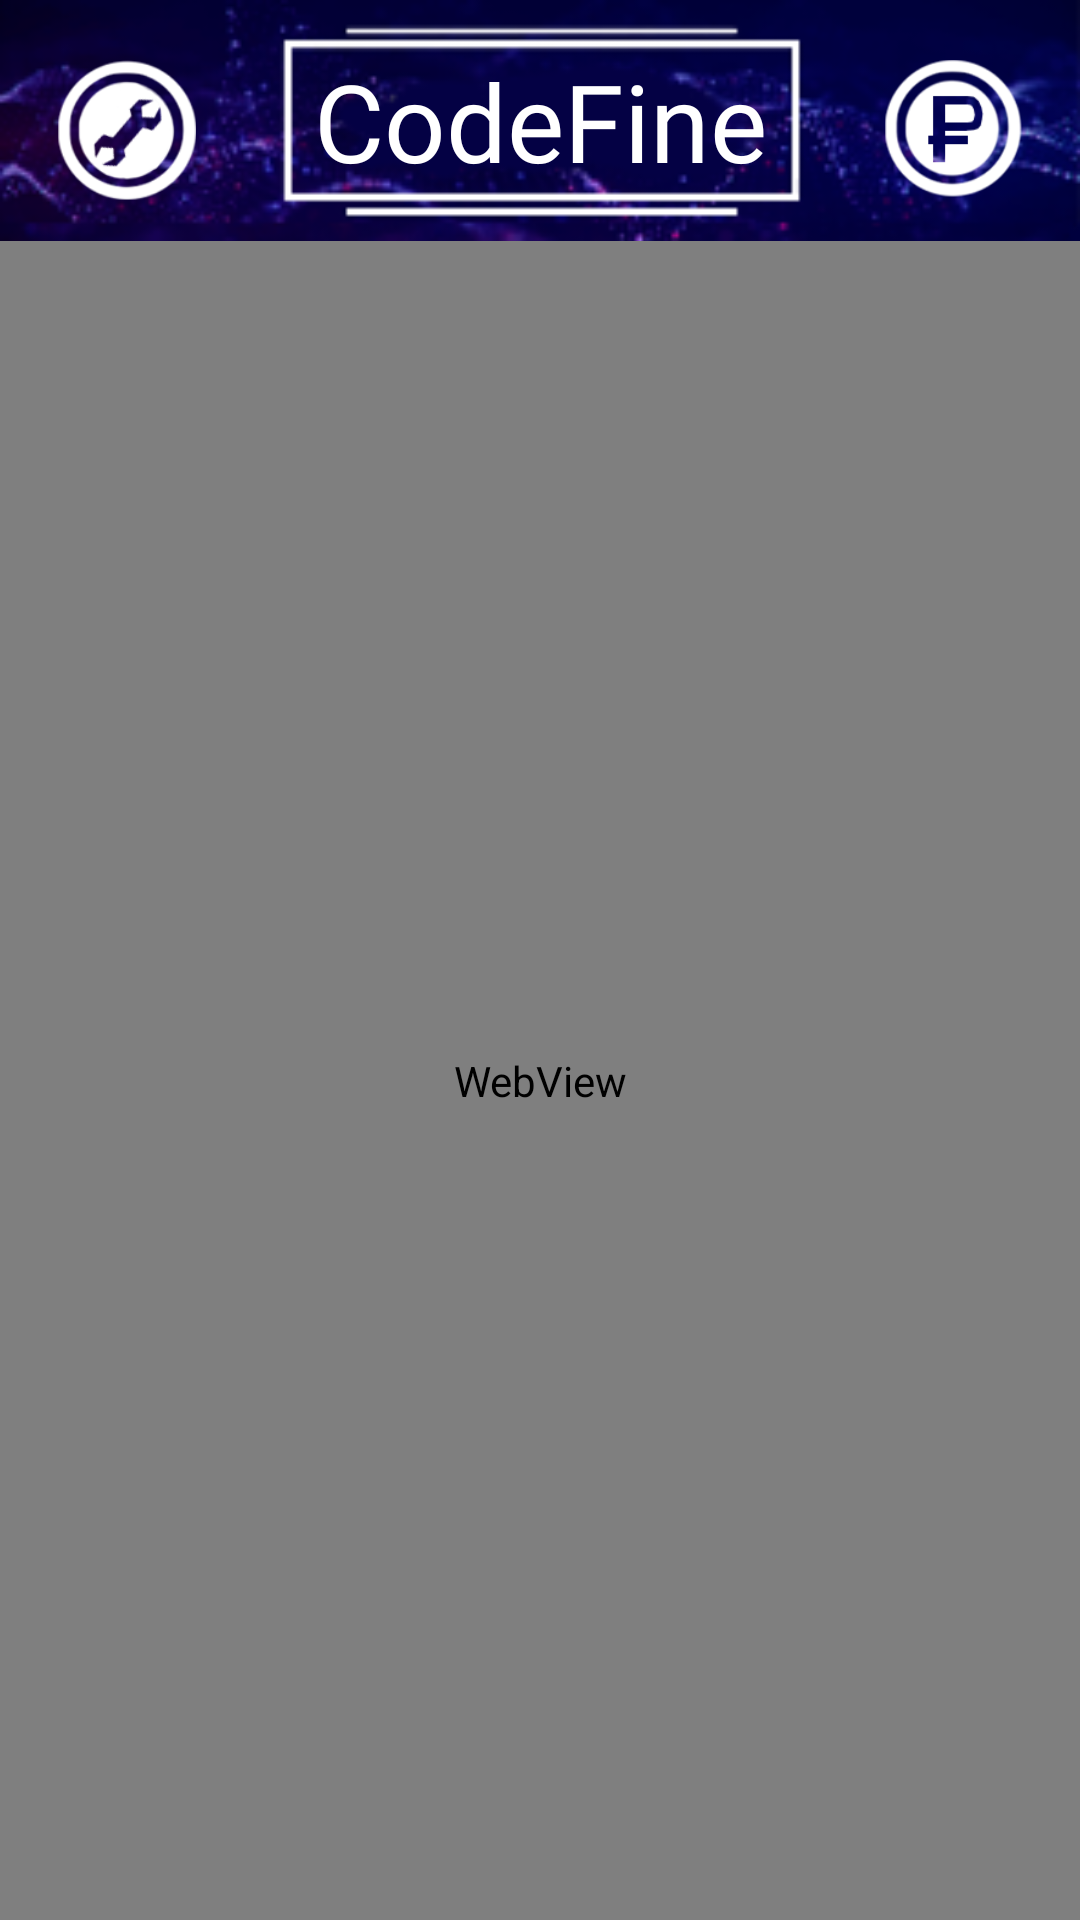

Where to tap for icons on this 1080×1920 app screen, as point (x, y):
donates: point (953, 139)
settings: point (127, 150)
